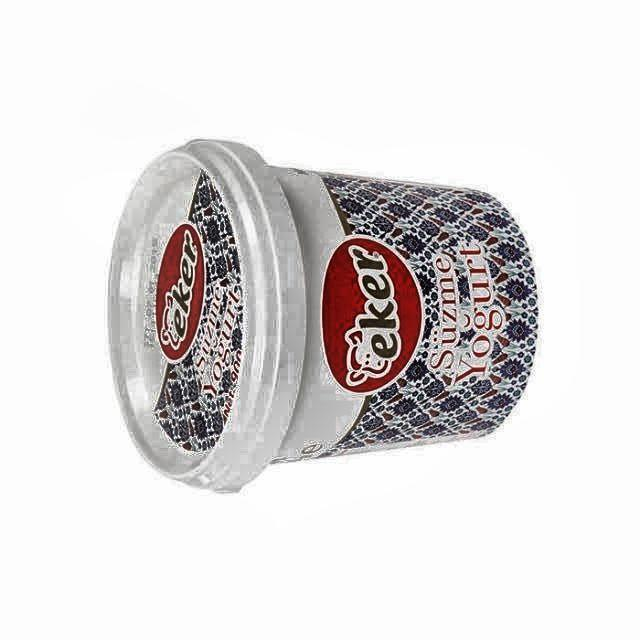plastic: (110, 141, 538, 491)
